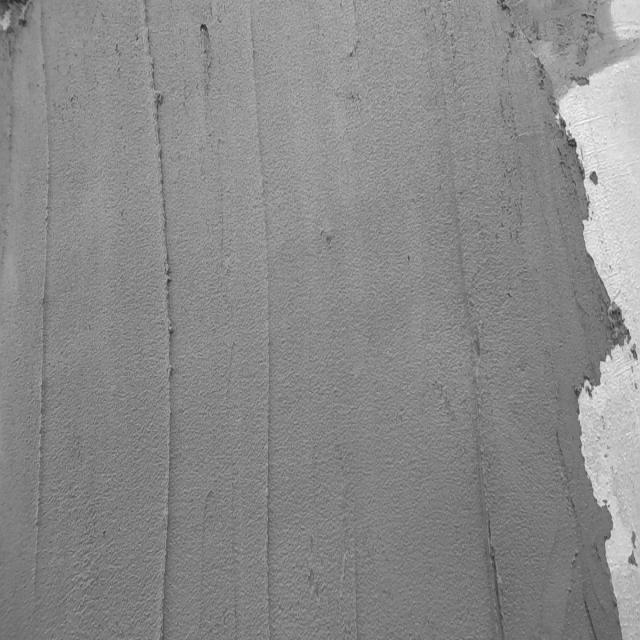trowels marks: (446, 110, 512, 640), (242, 22, 287, 640), (139, 0, 181, 640), (26, 20, 67, 636)
